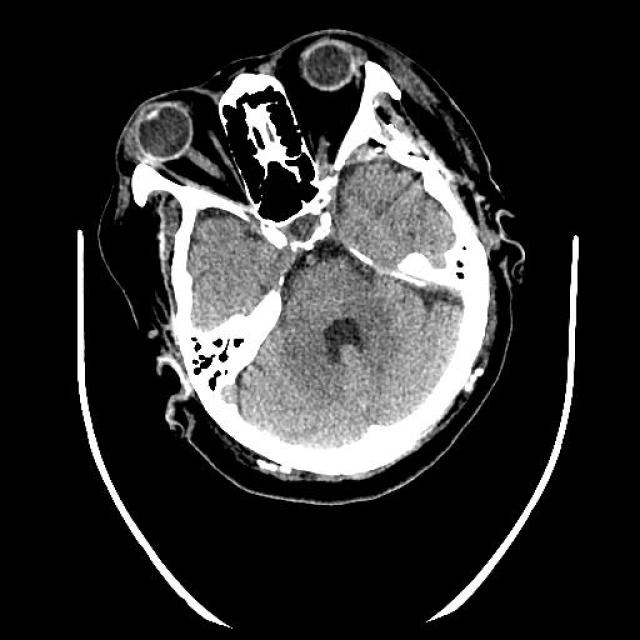Subdural: (324, 103, 405, 205)
